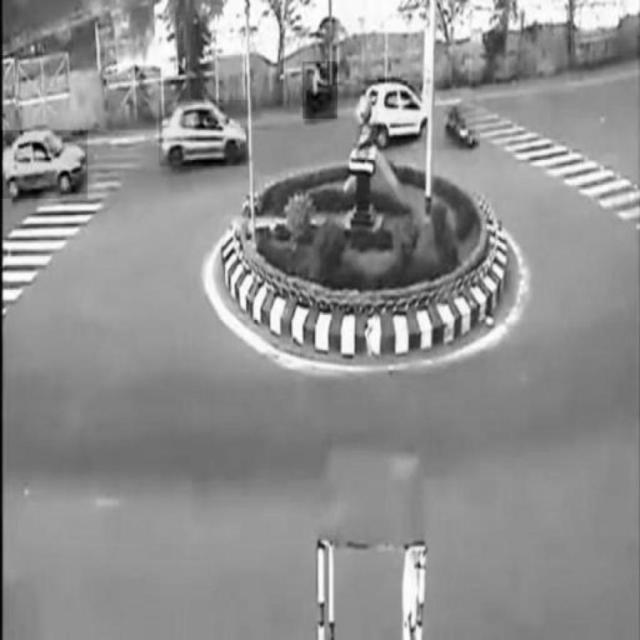accident: (362, 80, 476, 151)
vehicle: (0, 130, 88, 198), (159, 100, 249, 166), (303, 62, 338, 119)
